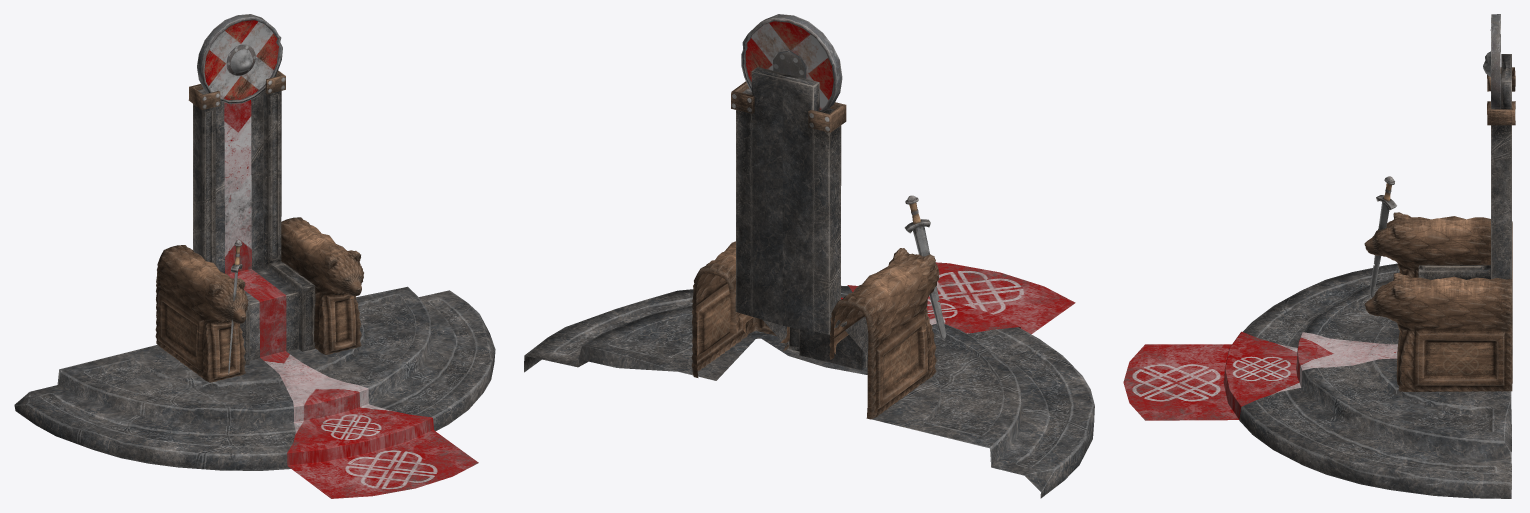
The model's file is throne.glb.
The picture shows the model from 3 angles, left to right: view 1: azimuth 30°, elevation 25°; view 2: azimuth 150°, elevation 25°; view 3: azimuth 270°, elevation 25°; orthographic projection. The views are drawn at different scales.
Parts seen in each view (by area): view 1: TheStairs_low, TheThrone_low; view 2: TheThrone_low, TheStairs_low; view 3: TheStairs_low, TheThrone_low.
Boxes of the visible parts, left/top/right/bottom form: TheStairs_low: left=14, top=100, right=495, bottom=498; TheThrone_low: left=155, top=14, right=363, bottom=382; TheThrone_low: left=691, top=14, right=946, bottom=419; TheStairs_low: left=524, top=262, right=1094, bottom=498; TheStairs_low: left=1123, top=263, right=1511, bottom=498; TheThrone_low: left=1364, top=14, right=1515, bottom=391.
Bounding box in the file's own units: 4.15 × 3.17 × 3.05.
Materials: 2 (2 with a texture image).
